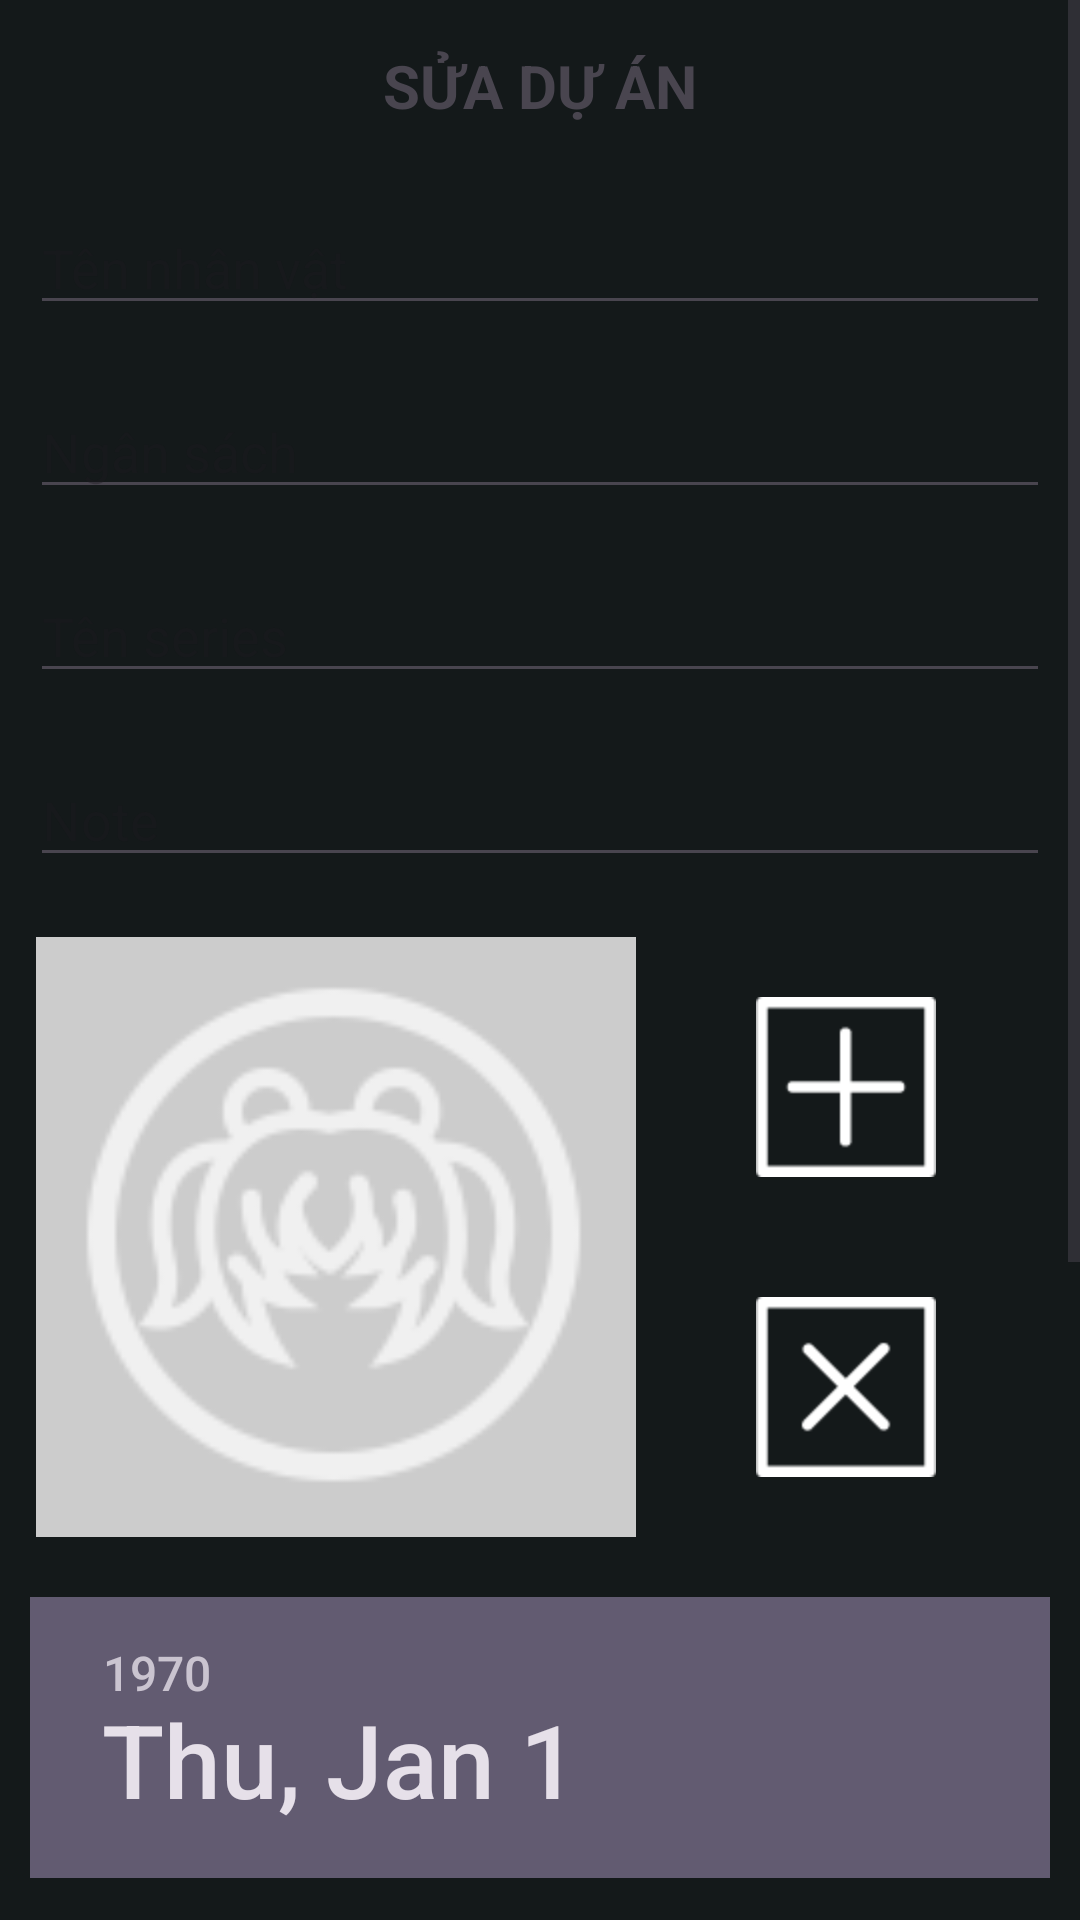

Locate icon controls on the screen. Image size 1080 x 1920, boxes as (x1, y1, x2, y2).
element add: (756, 997, 936, 1177)
element remove: (756, 1297, 936, 1477)
